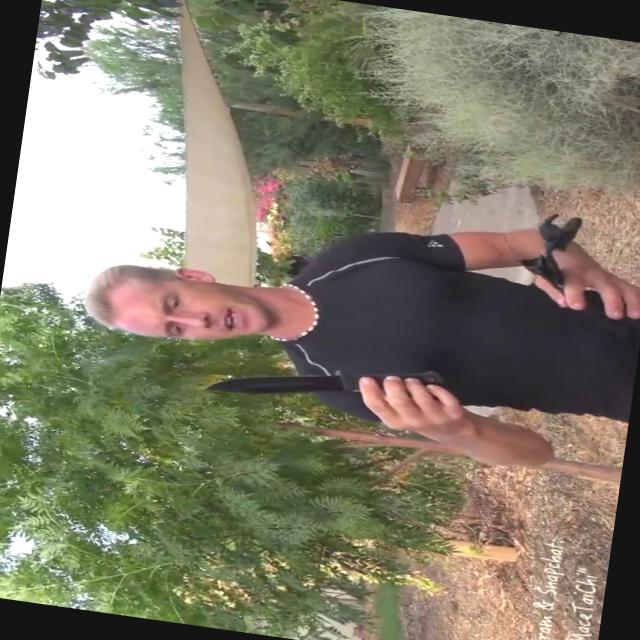knife: (195, 332, 450, 434)
